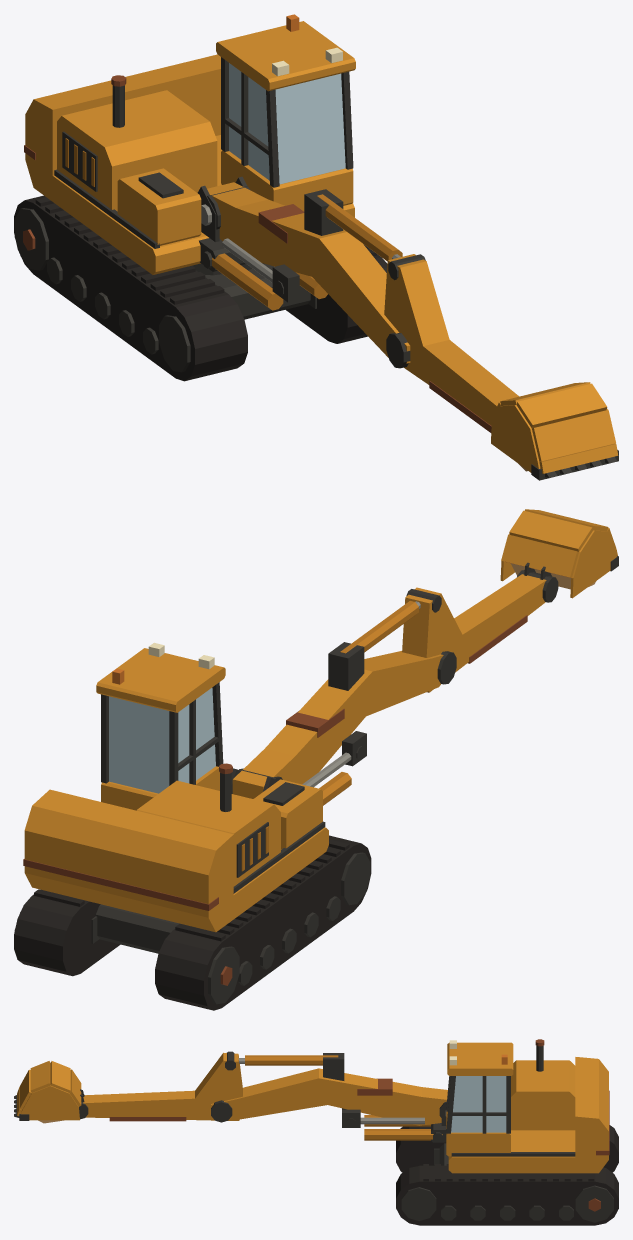
The model's file is Excavator.glb.
3 views of the same model, one above another, from view 1: azimuth 30°, elevation 25°; view 2: azimuth 150°, elevation 25°; view 3: azimuth 270°, elevation 25° (orthographic). The views are drawn at different scales.
Visible parts, largest first — view 1: Upper, Hull, Cab, Boom, Bucket, Stick, BoomRamA, StickRamA, BoomRamB; view 2: Upper, Hull, Cab, Boom, Stick, Bucket, StickRamA; view 3: Hull, Upper, Boom, Cab, Stick, Bucket, BoomRamA, StickRamA, BoomRamB.
Boxes of the visible parts, x1=… form: Upper: x1=24, y1=54, x2=354, y2=274; Hull: x1=14, y1=195, x2=387, y2=381; Cab: x1=216, y1=14, x2=355, y2=211; Boom: x1=207, y1=182, x2=410, y2=368; Bucket: x1=491, y1=382, x2=618, y2=480; Stick: x1=384, y1=254, x2=518, y2=432; BoomRamA: x1=202, y1=251, x2=327, y2=310; StickRamA: x1=317, y1=194, x2=402, y2=261; BoomRamB: x1=222, y1=238, x2=283, y2=296; Upper: x1=23, y1=763, x2=328, y2=932; Hull: x1=14, y1=835, x2=371, y2=1010; Cab: x1=96, y1=642, x2=225, y2=810; Boom: x1=232, y1=642, x2=456, y2=798; Stick: x1=402, y1=570, x2=558, y2=692; Bucket: x1=500, y1=509, x2=618, y2=598; StickRamA: x1=340, y1=601, x2=418, y2=653; Hull: x1=396, y1=1125, x2=618, y2=1225; Upper: x1=431, y1=1039, x2=609, y2=1173; Boom: x1=211, y1=1053, x2=447, y2=1127; Cab: x1=446, y1=1040, x2=513, y2=1156; Stick: x1=79, y1=1051, x2=242, y2=1121; Bucket: x1=14, y1=1061, x2=84, y2=1120; BoomRamA: x1=364, y1=1115, x2=442, y2=1142; StickRamA: x1=245, y1=1055, x2=338, y2=1065; BoomRamB: x1=346, y1=1117, x2=424, y2=1126.
Size of the model in its own units: 2.62 by 3.06 by 10.26.
